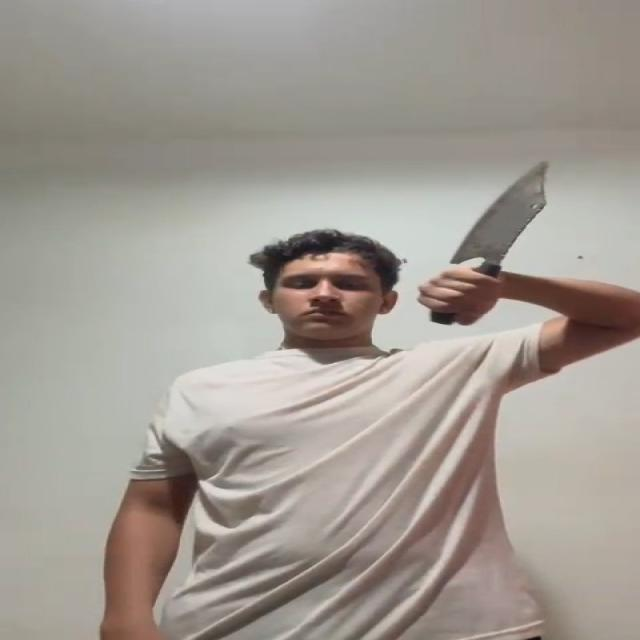knife: (455, 162, 550, 264)
